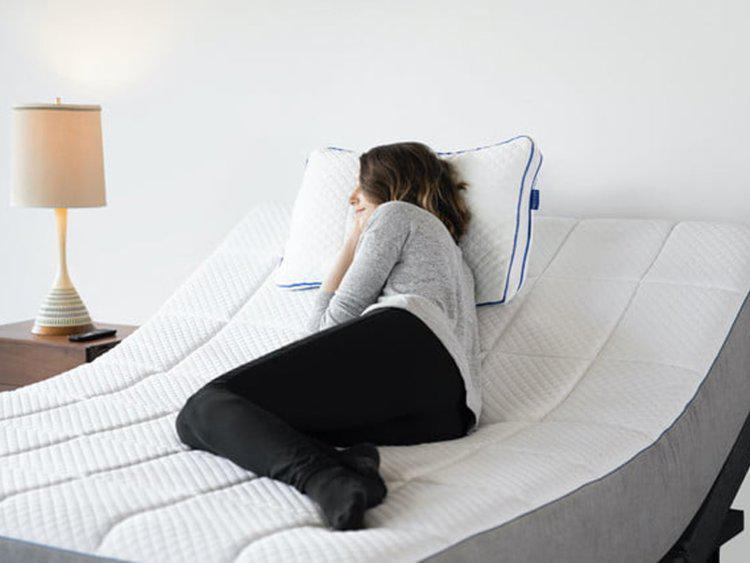bed: (9, 179, 745, 562)
